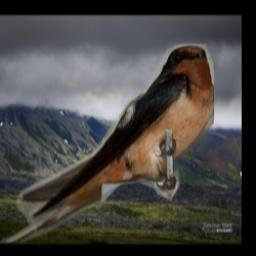Swallow: (0, 44, 215, 243)
